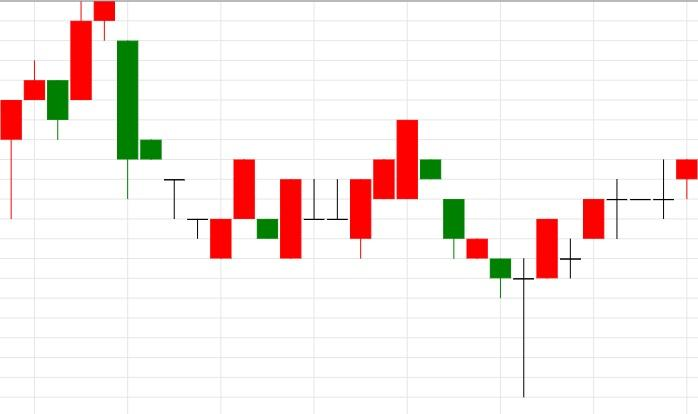morning_star_rise: (396, 119, 559, 398)
